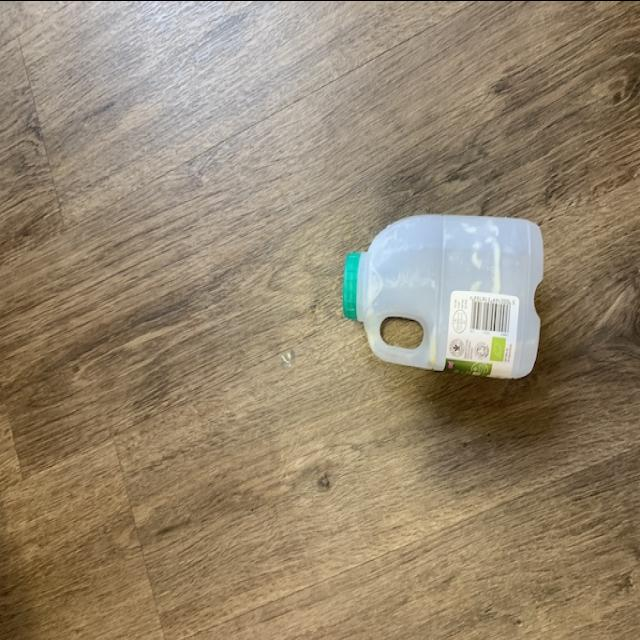HDPEM: (340, 208, 549, 380)
